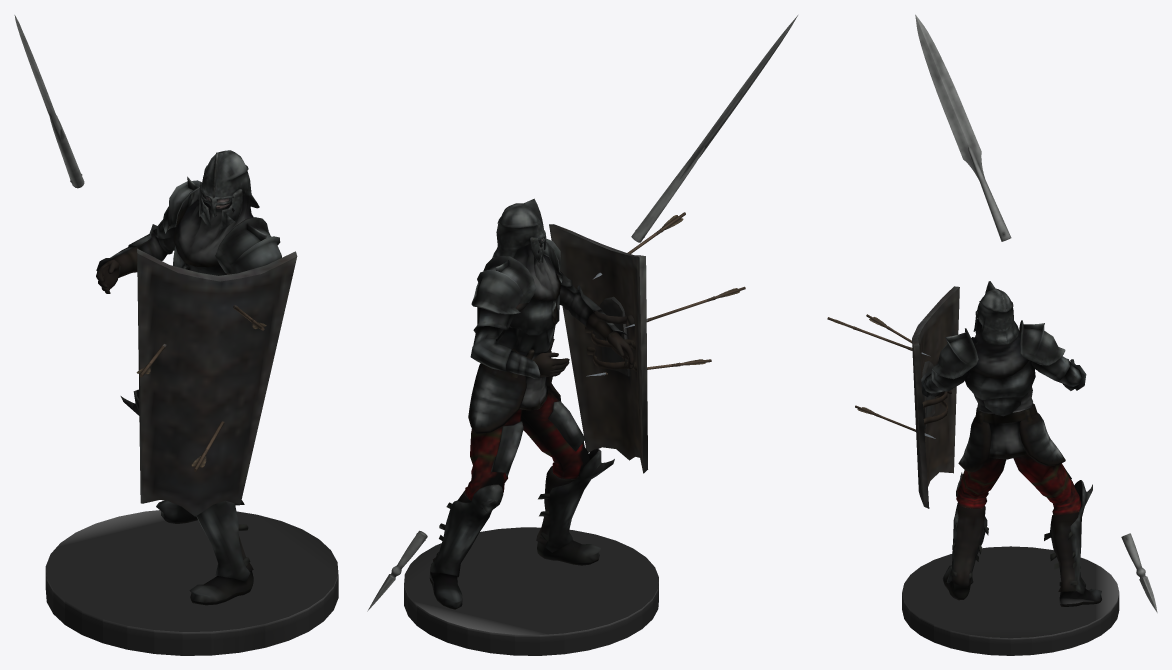
3 renders of one model, left to right at view 1: azimuth 30°, elevation 25°; view 2: azimuth 150°, elevation 25°; view 3: azimuth 270°, elevation 25°, orthographic. The views are drawn at different scales.
Visible parts, largest first — view 1: pate.smd; view 2: pate.smd; view 3: pate.smd.
Part boxes in pixels (x1,y1,x2,y2): pate.smd: [14, 15, 338, 655]; pate.smd: [367, 15, 797, 655]; pate.smd: [827, 14, 1157, 655].
Size of the model in its own units: 1.45 by 2.58 by 1.52.
1 material, 1 textured.
